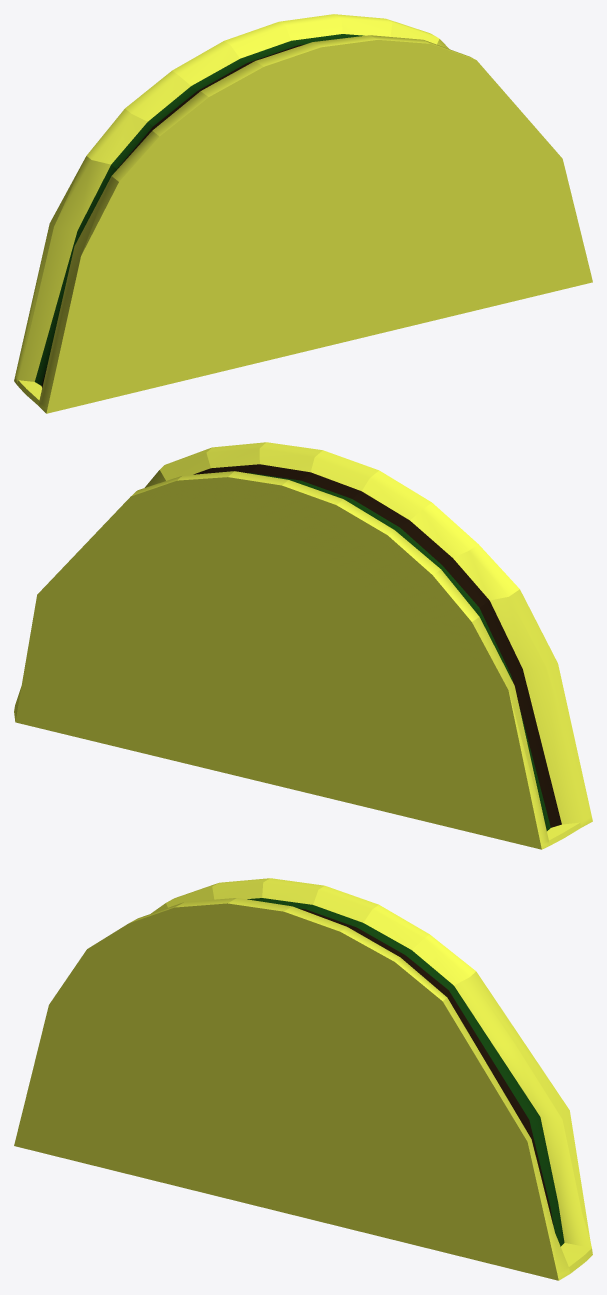
Rendered from Taco.fbx.
The picture shows the model from 3 angles, top to bottom: view 1: azimuth 30°, elevation 25°; view 2: azimuth 150°, elevation 25°; view 3: azimuth 330°, elevation 25°; orthographic projection.
Parts seen in each view (by area): view 1: tco; view 2: tco; view 3: tco.
Part boxes in pixels (x1,y1,x2,y2): tco: [14, 14, 592, 413]; tco: [14, 442, 592, 849]; tco: [14, 878, 592, 1280].
Bounding box in the file's own units: 44.59 × 23.62 × 6.29.
